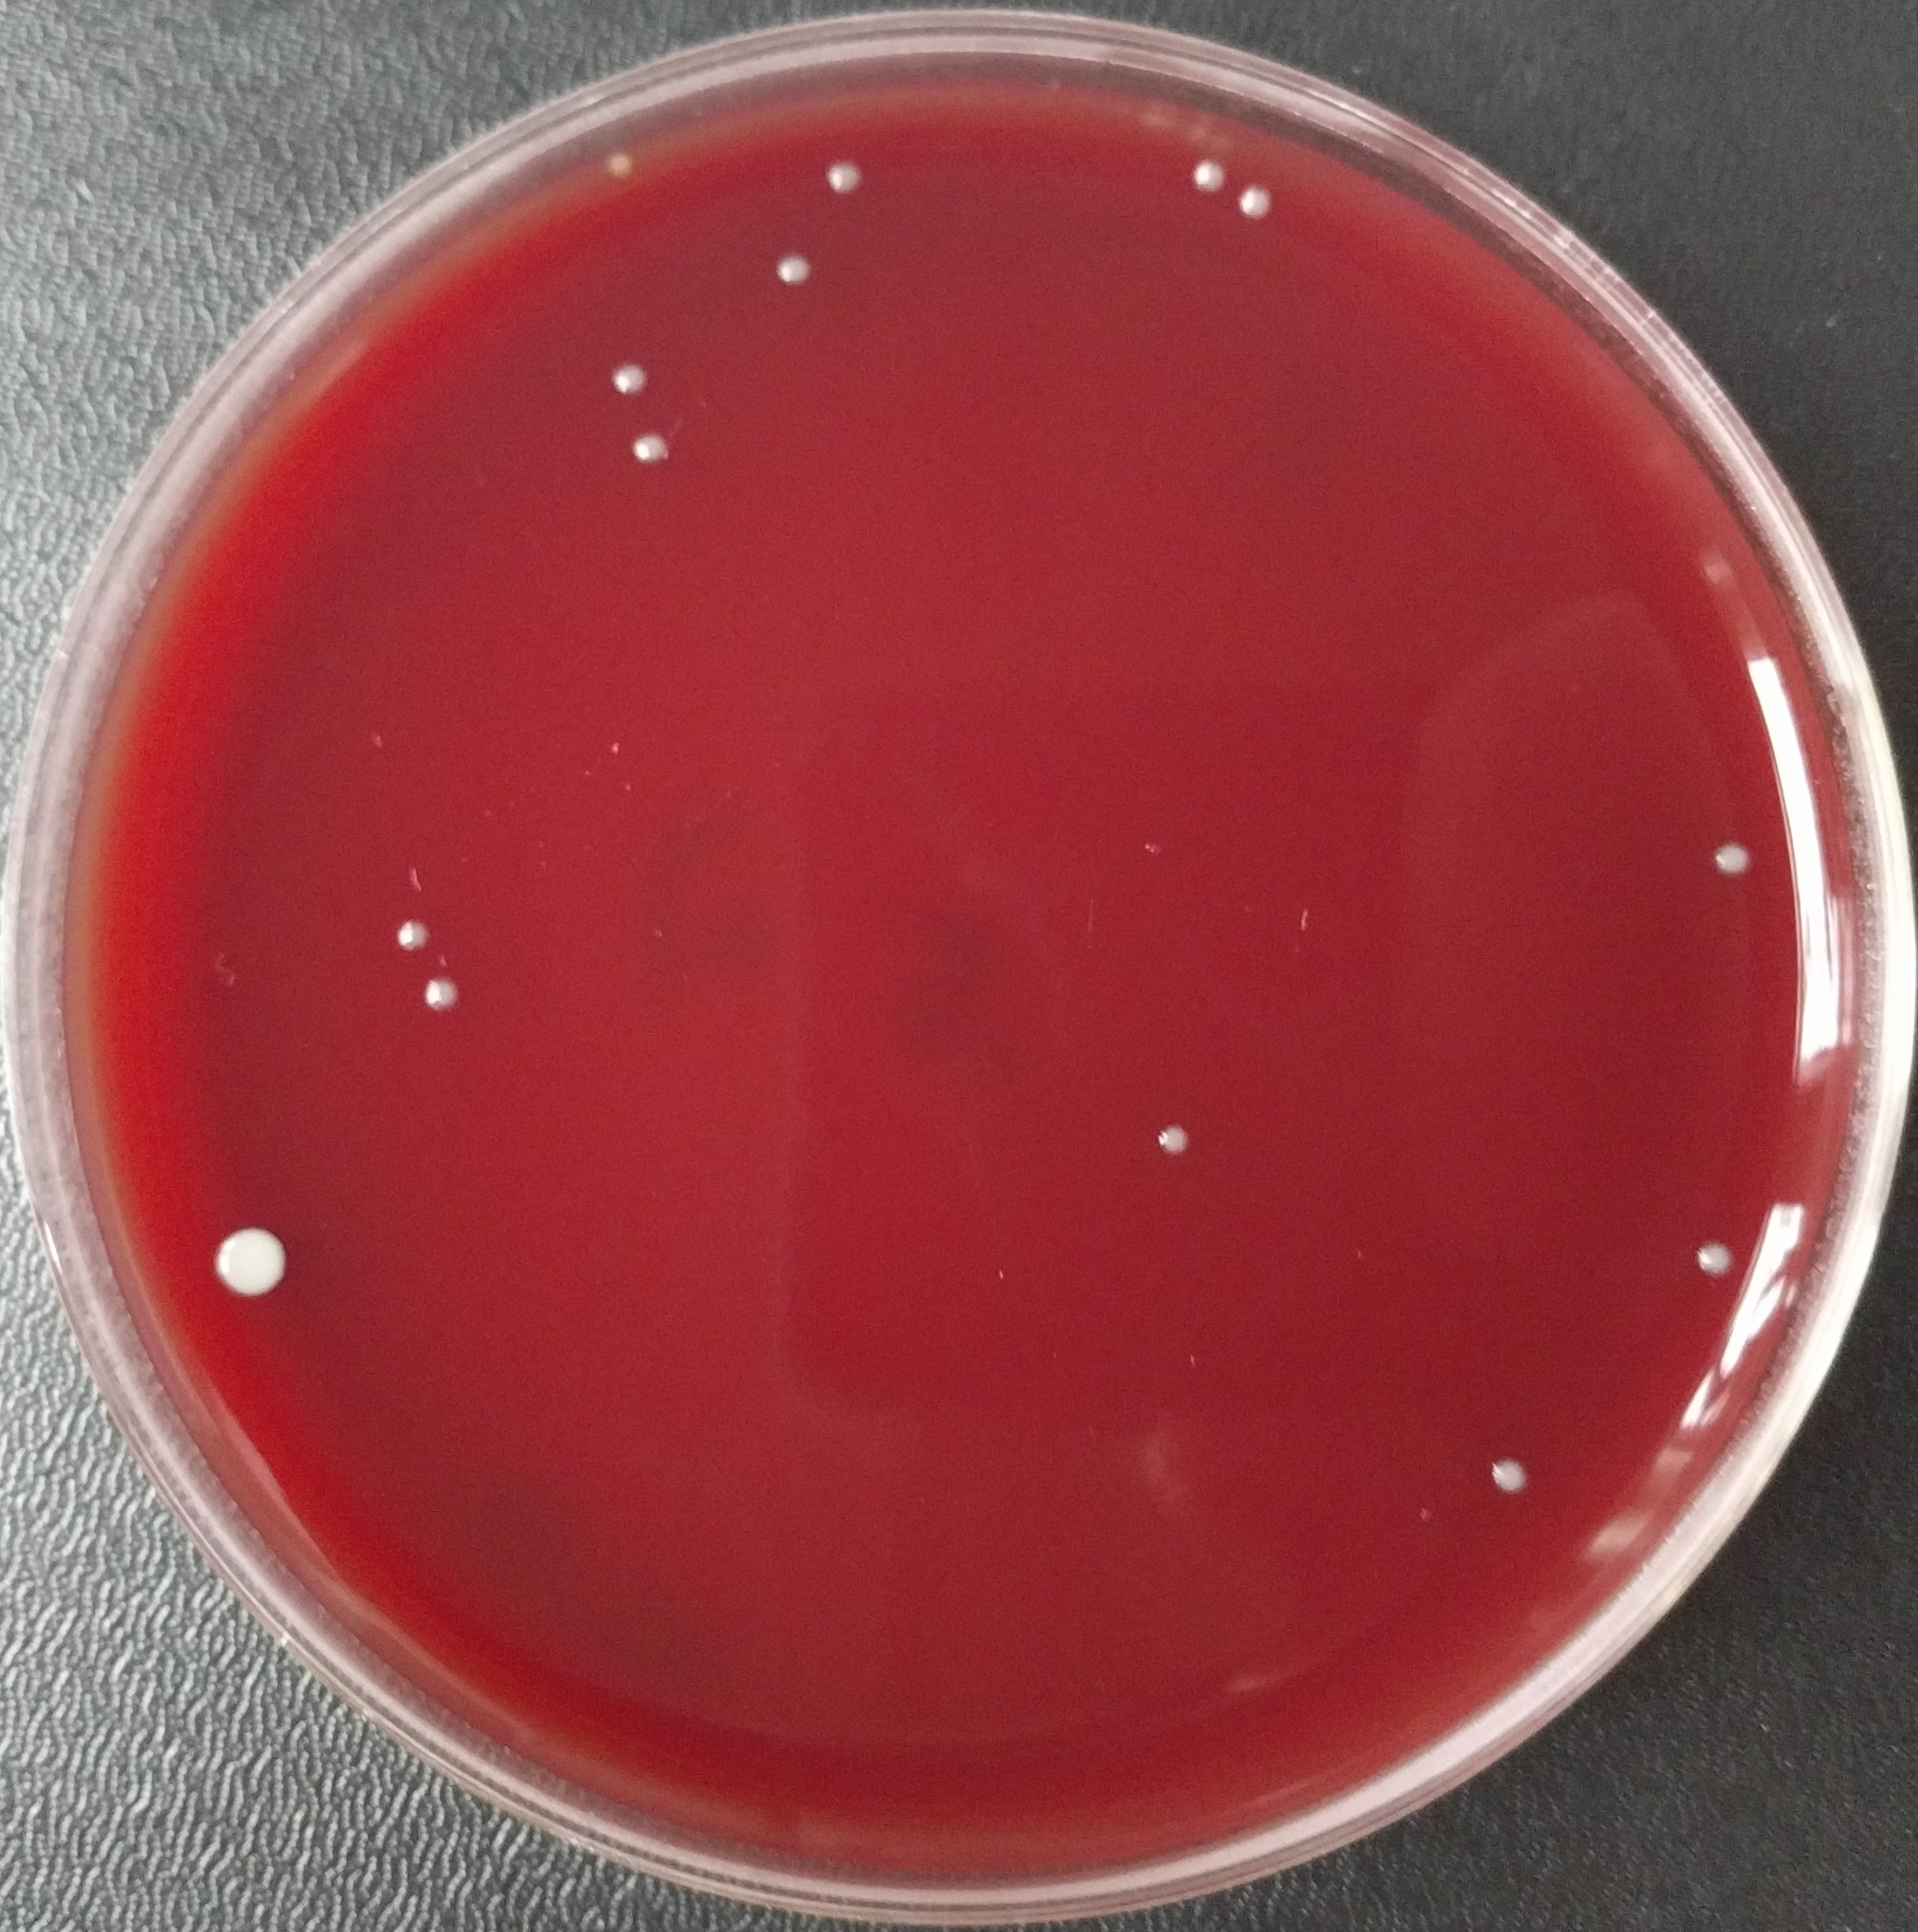sp15: (1705, 834, 1756, 887), (416, 973, 471, 1020), (624, 425, 674, 474), (1152, 1119, 1201, 1163), (822, 153, 868, 198), (609, 357, 652, 406), (1237, 183, 1280, 225), (395, 913, 439, 955), (1187, 156, 1228, 195), (1489, 1451, 1521, 1500), (775, 251, 817, 288), (1697, 1235, 1728, 1282), (601, 151, 634, 184)
